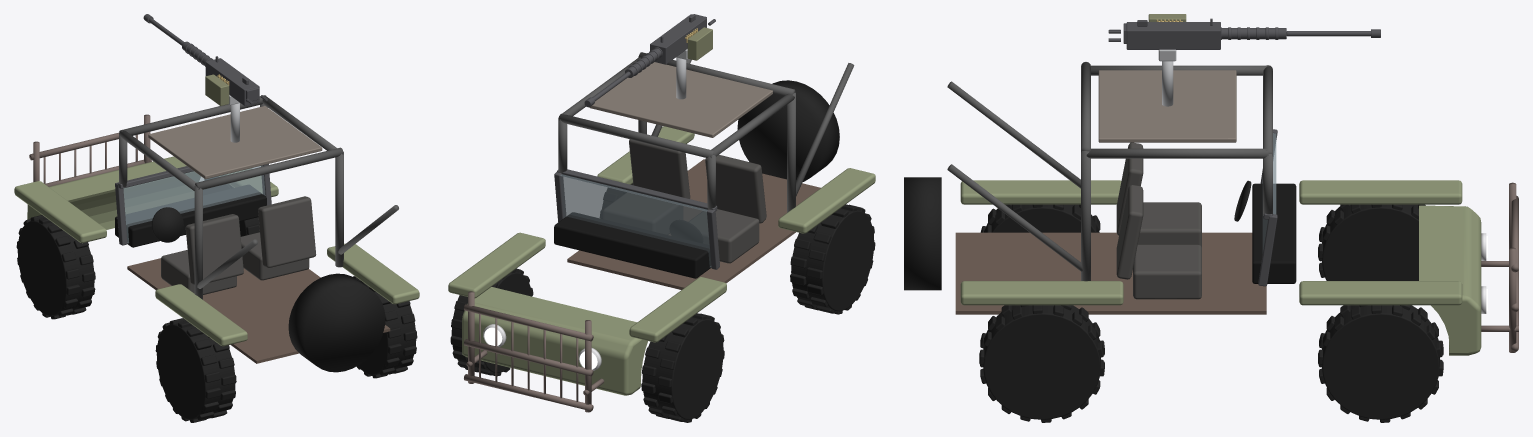
Rendered from buggy.glb.
3 views of the same model, side by side, from view 1: azimuth 30°, elevation 25°; view 2: azimuth 150°, elevation 25°; view 3: azimuth 270°, elevation 25° (orthographic). The views are drawn at different scales.
Parts seen in each view (by area): view 1: spare, cage_plate, floor, tire.001, tire, body, windshield, seat_back.001, dash, tire.004, seat_back, fender (+25 smaller); view 2: body, cage_plate, tire.001, tire, windshield, spare, floor, dash, seat_back, fender, fender.001, fender.002 (+27 smaller); view 3: floor, tire.004, tire.003, cage_plate, tire.001, body, spare, mg, fender, fender.002, fender.003, seat.001 (+17 smaller).
Part boxes in pixels (left/top/right/bottom): spare: left=288, top=273, right=385, bottom=372; cage_plate: left=148, top=106, right=322, bottom=179; floor: left=127, top=258, right=390, bottom=363; tire.001: left=16, top=215, right=95, bottom=319; tire: left=155, top=318, right=233, bottom=422; body: left=27, top=156, right=200, bottom=229; windshield: left=123, top=165, right=265, bottom=243; seat_back.001: left=258, top=196, right=316, bottom=267; dash: left=115, top=185, right=266, bottom=247; tire.004: left=353, top=276, right=417, bottom=378; seat_back: left=185, top=214, right=243, bottom=285; fender: left=14, top=181, right=106, bottom=243; body: left=462, top=287, right=647, bottom=395; cage_plate: left=589, top=62, right=772, bottom=137; tire.001: left=641, top=313, right=724, bottom=422; tire: left=792, top=204, right=875, bottom=314; windshield: left=560, top=174, right=711, bottom=267; spare: left=737, top=80, right=839, bottom=181; floor: left=567, top=159, right=820, bottom=289; dash: left=554, top=212, right=711, bottom=278; seat_back: left=705, top=155, right=766, bottom=223; fender: left=629, top=277, right=726, bottom=342; fender.001: left=778, top=168, right=875, bottom=233; fender.002: left=448, top=232, right=545, bottom=297; floor: left=955, top=232, right=1266, bottom=314; tire.004: left=979, top=305, right=1104, bottom=422; tire.003: left=1318, top=305, right=1443, bottom=422; cage_plate: left=1098, top=70, right=1236, bottom=142; tire.001: left=1318, top=204, right=1425, bottom=280; body: left=1419, top=205, right=1481, bottom=355; spare: left=904, top=177, right=941, bottom=290; mg: left=1108, top=18, right=1380, bottom=49; fender: left=1299, top=180, right=1462, bottom=204; fender.002: left=1299, top=281, right=1462, bottom=305; fender.003: left=960, top=281, right=1123, bottom=305; seat.001: left=1133, top=244, right=1201, bottom=299.
Bounding box in the file's own units: 2.34 × 3.02 × 4.9.
